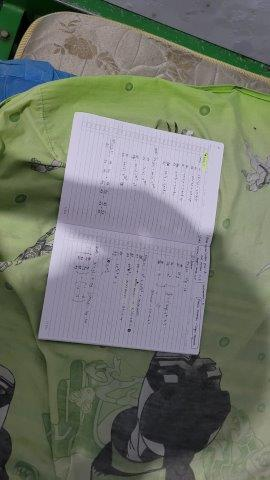kertas: (36, 110, 225, 357)
